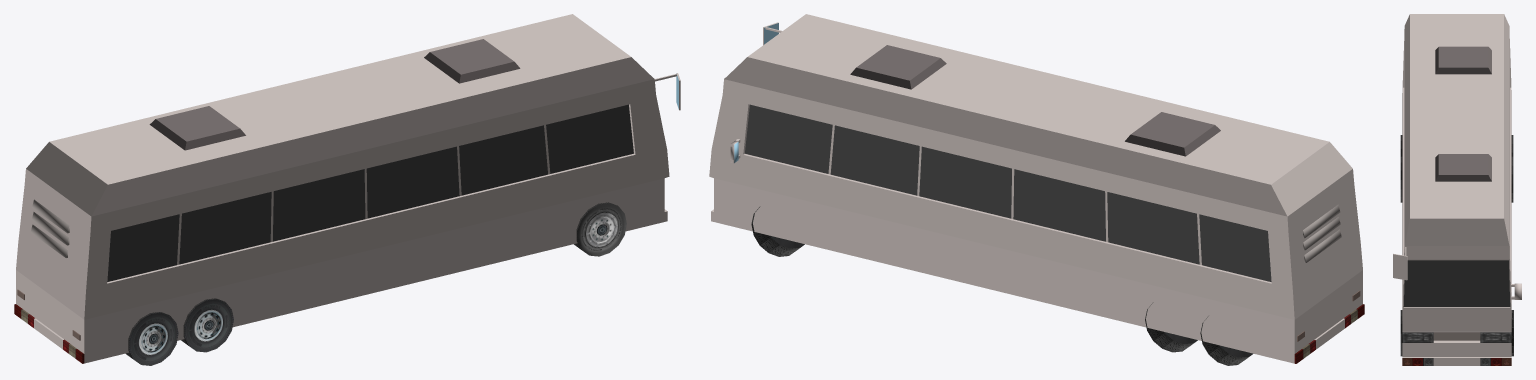
File: Bus.gltf
The picture shows the model from 3 angles, left to right: view 1: azimuth 30°, elevation 25°; view 2: azimuth 150°, elevation 25°; view 3: azimuth 270°, elevation 25°; orthographic projection. The views are drawn at different scales.
Visible parts, largest first — view 1: Cube_041, Plane_003, Plane_004, WheelRL013, WheelRL011, WheelRL015; view 2: Cube_041, Plane_004, Plane_003, WheelRL012, WheelRL016, WheelRL014; view 3: Cube_041, Plane_003, Plane_004, Cube_036, WheelRL012, WheelRL014, WheelRL013, WheelRL011, Plane_006.
Boxes of the visible parts, box(x1,y1,x2,y2) form: Cube_041: box(14, 14, 669, 363); Plane_003: box(149, 106, 245, 150); Plane_004: box(424, 39, 520, 83); WheelRL013: box(181, 298, 233, 352); WheelRL011: box(574, 202, 626, 256); WheelRL015: box(125, 312, 178, 365); Cube_041: box(709, 14, 1364, 363); Plane_004: box(850, 45, 946, 89); Plane_003: box(1125, 112, 1220, 156); WheelRL012: box(751, 206, 804, 256); WheelRL016: box(1200, 316, 1253, 365); WheelRL014: box(1145, 302, 1197, 352); Cube_041: box(1402, 14, 1511, 365); Plane_003: box(1435, 46, 1491, 74); Plane_004: box(1435, 154, 1491, 181); Cube_036: box(1393, 253, 1407, 280); WheelRL012: box(1511, 310, 1513, 356); WheelRL014: box(1511, 156, 1513, 202); WheelRL013: box(1400, 156, 1402, 202); WheelRL011: box(1400, 310, 1402, 356); Plane_006: box(1514, 283, 1521, 299).
Bounding box in the file's own units: 3.07 × 0.9448 × 0.7156.
9 materials, 2 textured.
